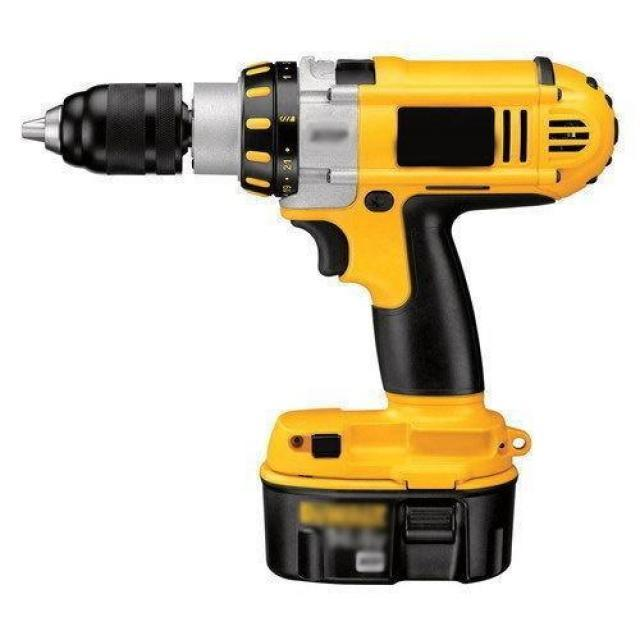drill: (19, 55, 620, 586)
